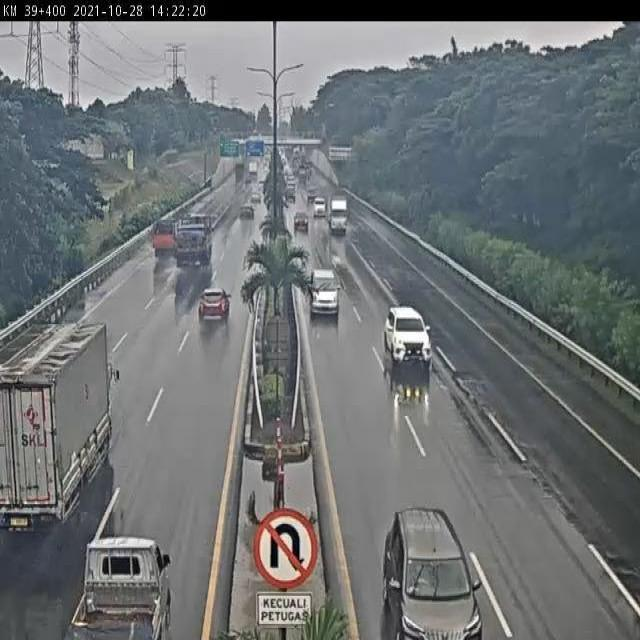car: (382, 304, 432, 369), (197, 284, 232, 327), (309, 269, 341, 316), (293, 211, 312, 235), (236, 203, 257, 224), (311, 195, 327, 221)
truck: (0, 312, 112, 525), (177, 212, 214, 271), (152, 212, 180, 256), (330, 197, 350, 235)
